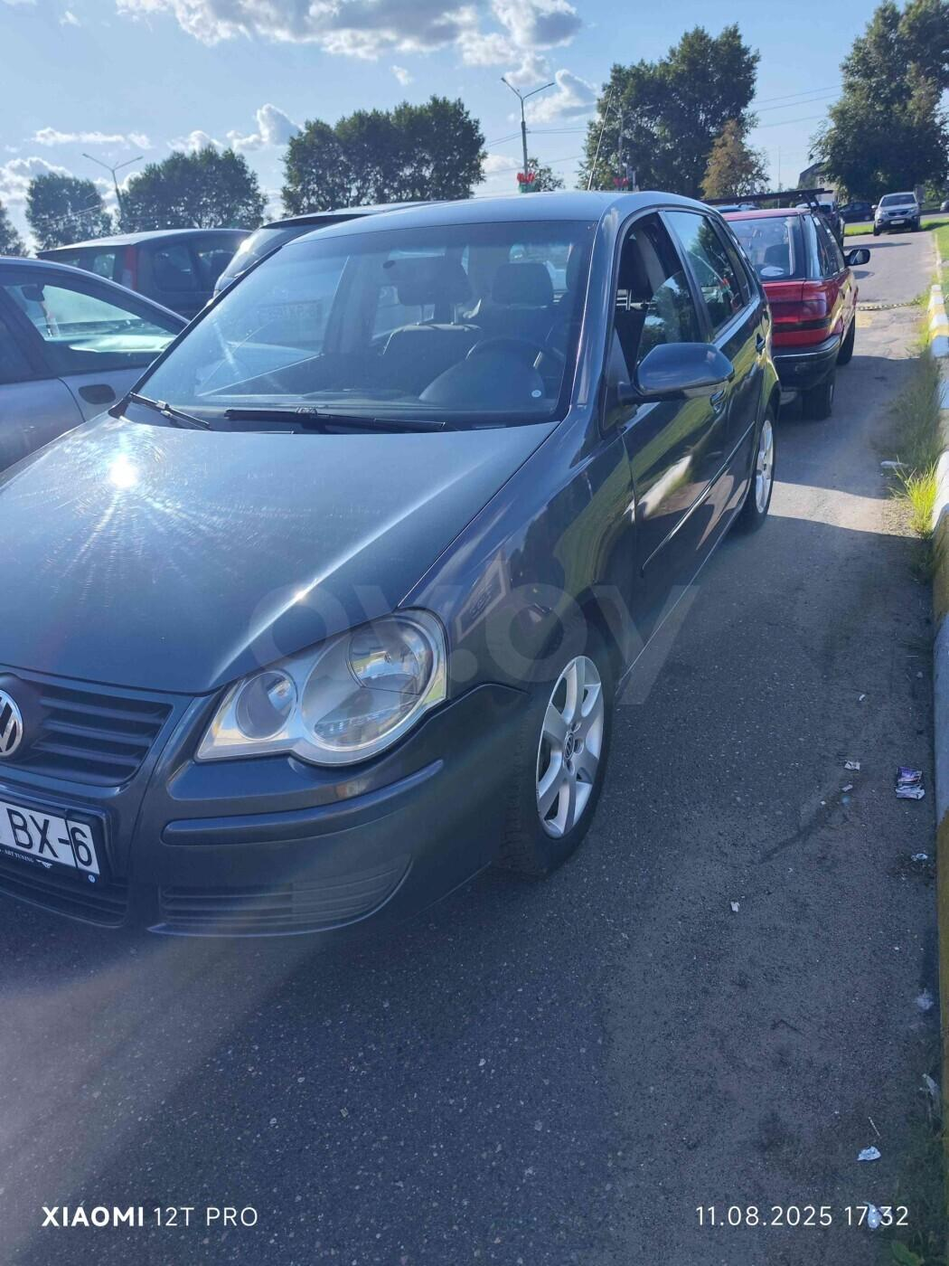Polo_2005-2009: (0, 196, 786, 984)
